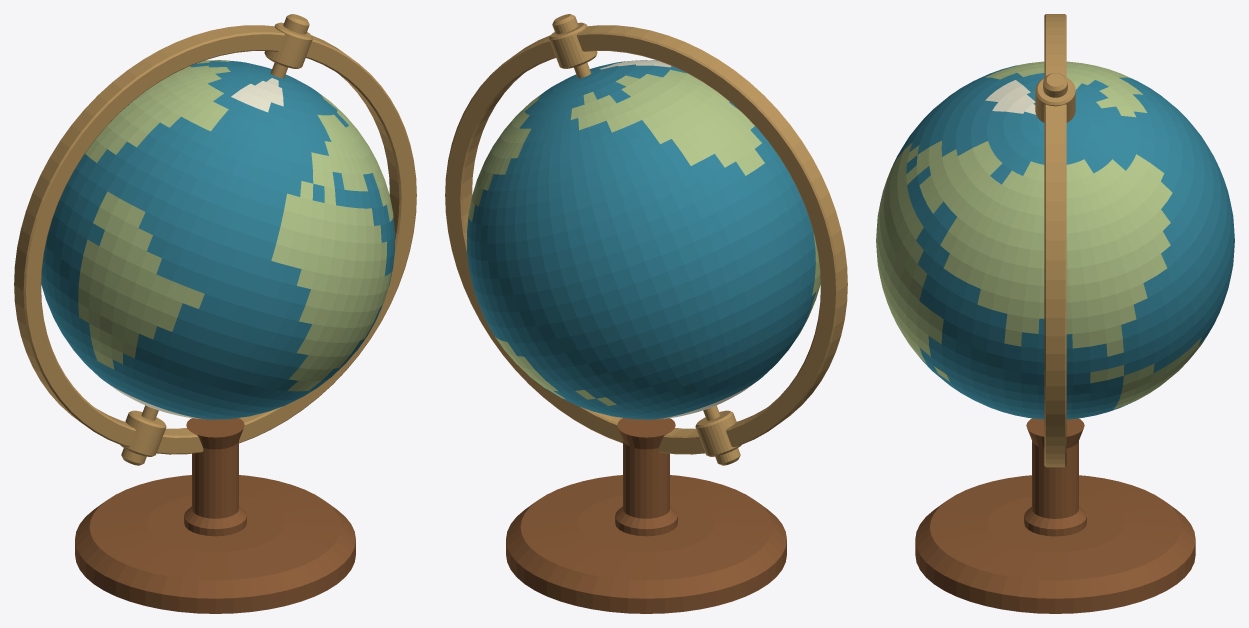
The picture shows the model from 3 angles, left to right: view 1: azimuth 30°, elevation 25°; view 2: azimuth 150°, elevation 25°; view 3: azimuth 270°, elevation 25°; orthographic projection.
Parts seen in each view (by area): view 1: Globe_Surface, Stand_WeightedBase, Frame_MeridianRing, Stand_Column, Bearing_SouthSleeve, Bearing_NorthSleeve, Axis_NorthPin; view 2: Globe_Surface, Stand_WeightedBase, Frame_MeridianRing, Stand_Column, Bearing_SouthSleeve, Bearing_NorthSleeve, Axis_NorthPin; view 3: Globe_Surface, Stand_WeightedBase, Frame_MeridianRing, Stand_Column, Bearing_NorthSleeve, Axis_NorthPin.
Boxes of the visible parts, box(x1,y1,x2,y2) form: Globe_Surface: box(41, 60, 394, 419); Stand_WeightedBase: box(75, 475, 355, 613); Frame_MeridianRing: box(14, 25, 416, 454); Stand_Column: box(184, 418, 246, 536); Bearing_SouthSleeve: box(120, 410, 166, 456); Bearing_NorthSleeve: box(264, 22, 312, 68); Axis_NorthPin: box(270, 14, 309, 78); Globe_Surface: box(467, 60, 820, 419); Stand_WeightedBase: box(506, 475, 786, 613); Frame_MeridianRing: box(445, 25, 847, 454); Stand_Column: box(615, 418, 677, 536); Bearing_SouthSleeve: box(695, 410, 741, 456); Bearing_NorthSleeve: box(549, 22, 597, 68); Axis_NorthPin: box(552, 14, 591, 78); Globe_Surface: box(876, 61, 1234, 419); Stand_WeightedBase: box(915, 475, 1195, 613); Frame_MeridianRing: box(1044, 14, 1066, 467); Stand_Column: box(1024, 418, 1086, 536); Bearing_NorthSleeve: box(1035, 78, 1075, 122); Axis_NorthPin: box(1043, 73, 1067, 97).
Size of the model in its own units: 0.404 by 0.517 by 0.32.
